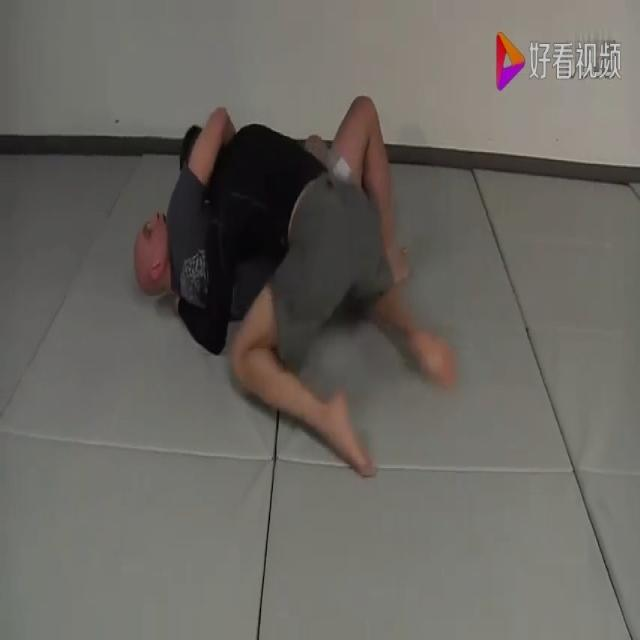fight: (127, 85, 419, 498)
